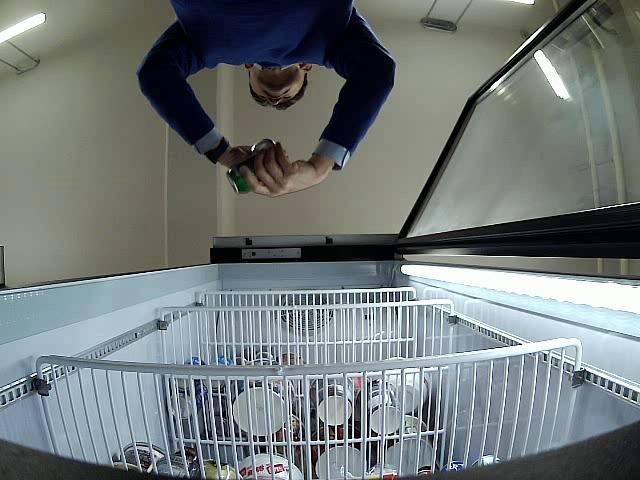00_hand: (241, 142, 314, 197)
12_chilsungCider: (227, 168, 253, 195)
